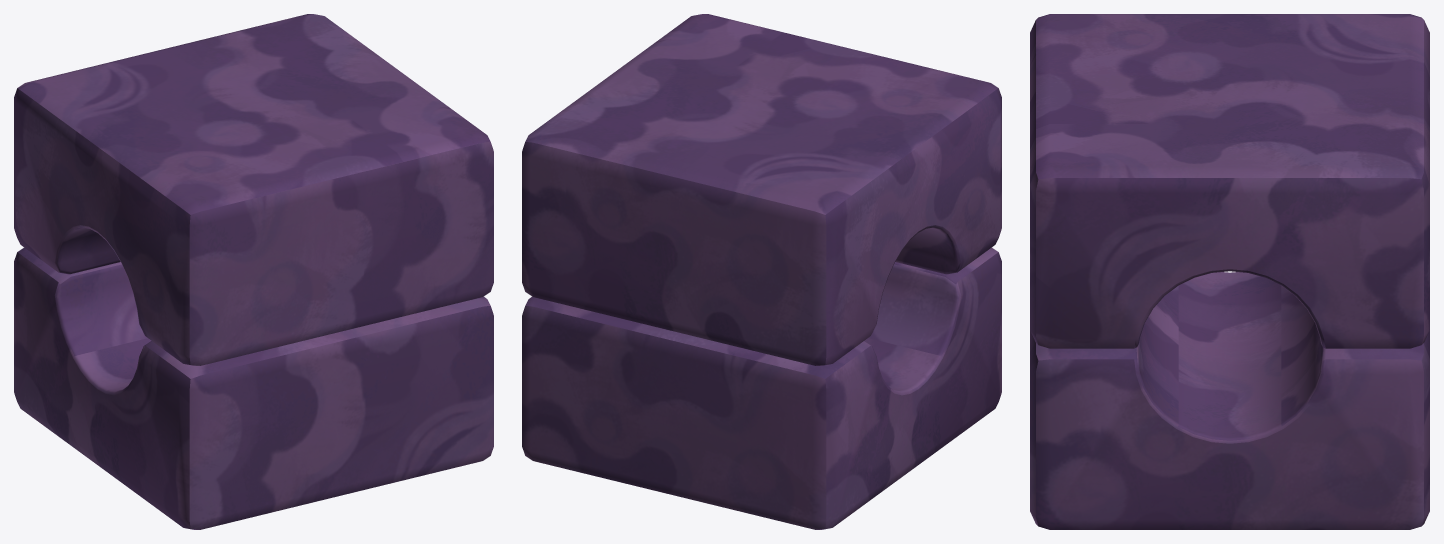
File: cube_hole.fbx
3 renders of one model, left to right at view 1: azimuth 30°, elevation 25°; view 2: azimuth 150°, elevation 25°; view 3: azimuth 270°, elevation 25°, orthographic. The views are drawn at different scales.
Parts seen in each view (by area): view 1: pCube1.003, pCube1.008; view 2: pCube1.003, pCube1.008; view 3: pCube1.003, pCube1.008.
Boxes of the visible parts, x1=… form: pCube1.003: x1=14, y1=14, x2=493, y2=365; pCube1.008: x1=14, y1=247, x2=493, y2=529; pCube1.003: x1=522, y1=14, x2=1001, y2=365; pCube1.008: x1=522, y1=247, x2=1001, y2=529; pCube1.003: x1=1030, y1=14, x2=1429, y2=348; pCube1.008: x1=1030, y1=272, x2=1429, y2=529.
Bounding box in the file's own units: 100 × 100 × 100.
